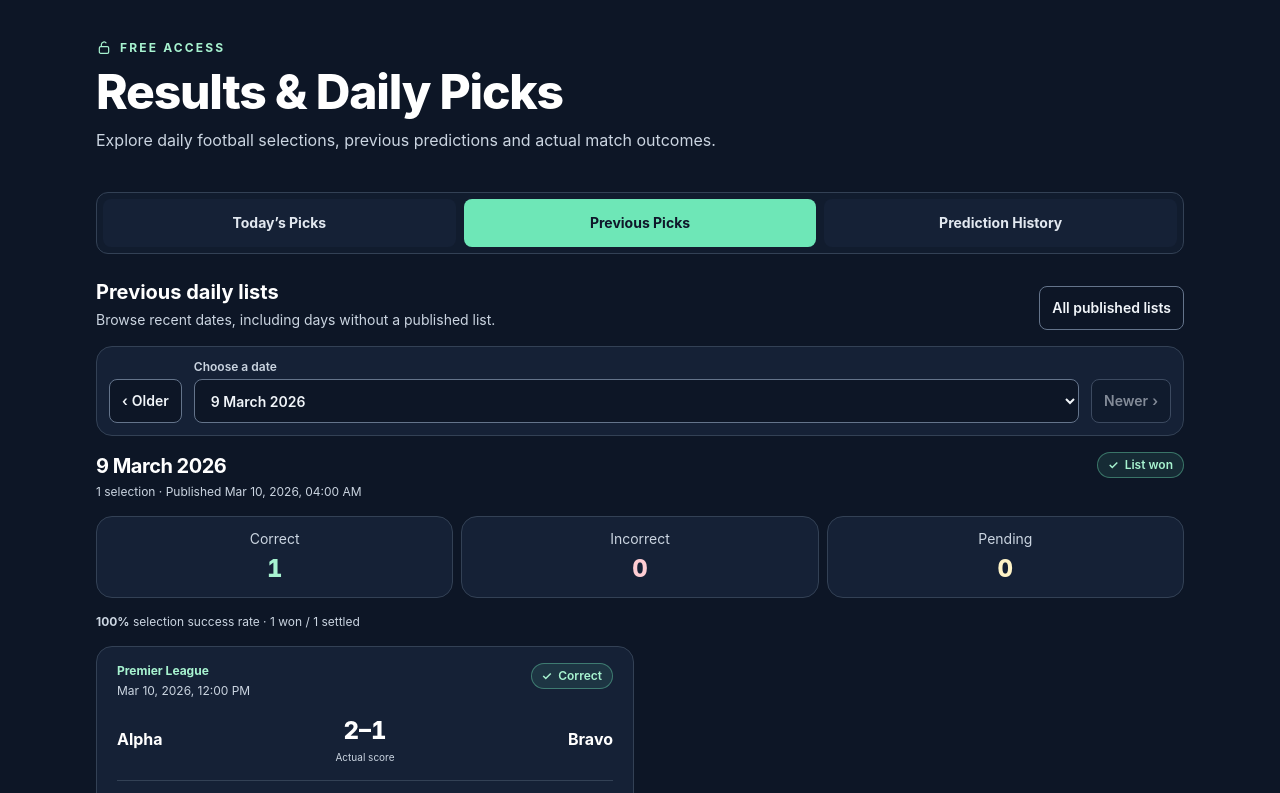
Test: public history screen › filters recent dates and pages through the published archive
Expected: the heading "Alpha 2–1 Actual score Bravo" is shown, [117,715,613,764]
Select "8 March 2026" in the dropdown labelled "Choose a date" at (636, 401), box [194,379,1079,423]
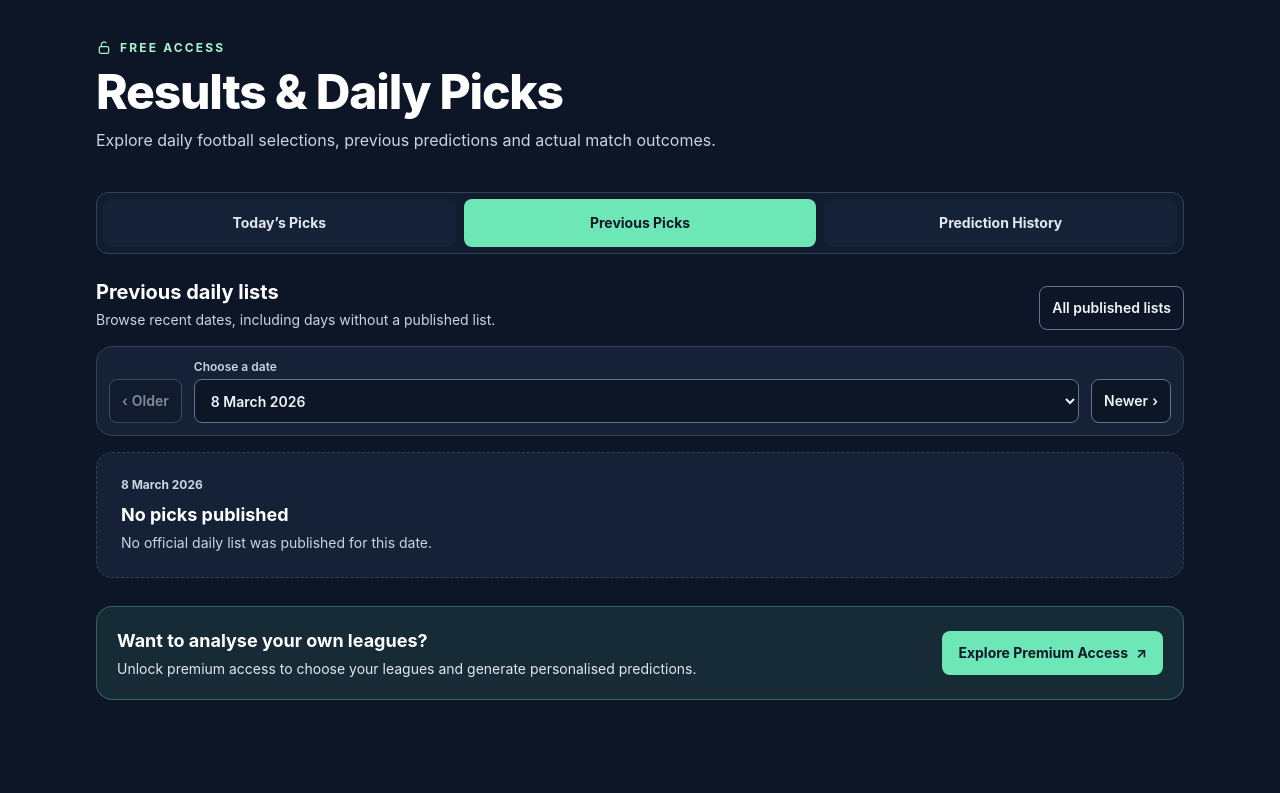
Expected: the heading "No picks published" is shown, [121,504,289,525]
Expected: the heading "Alpha 2–1 Actual score Bravo" is gone
Click the link with aria-label "Next date" at (1131, 401), box [1091,379,1171,423]
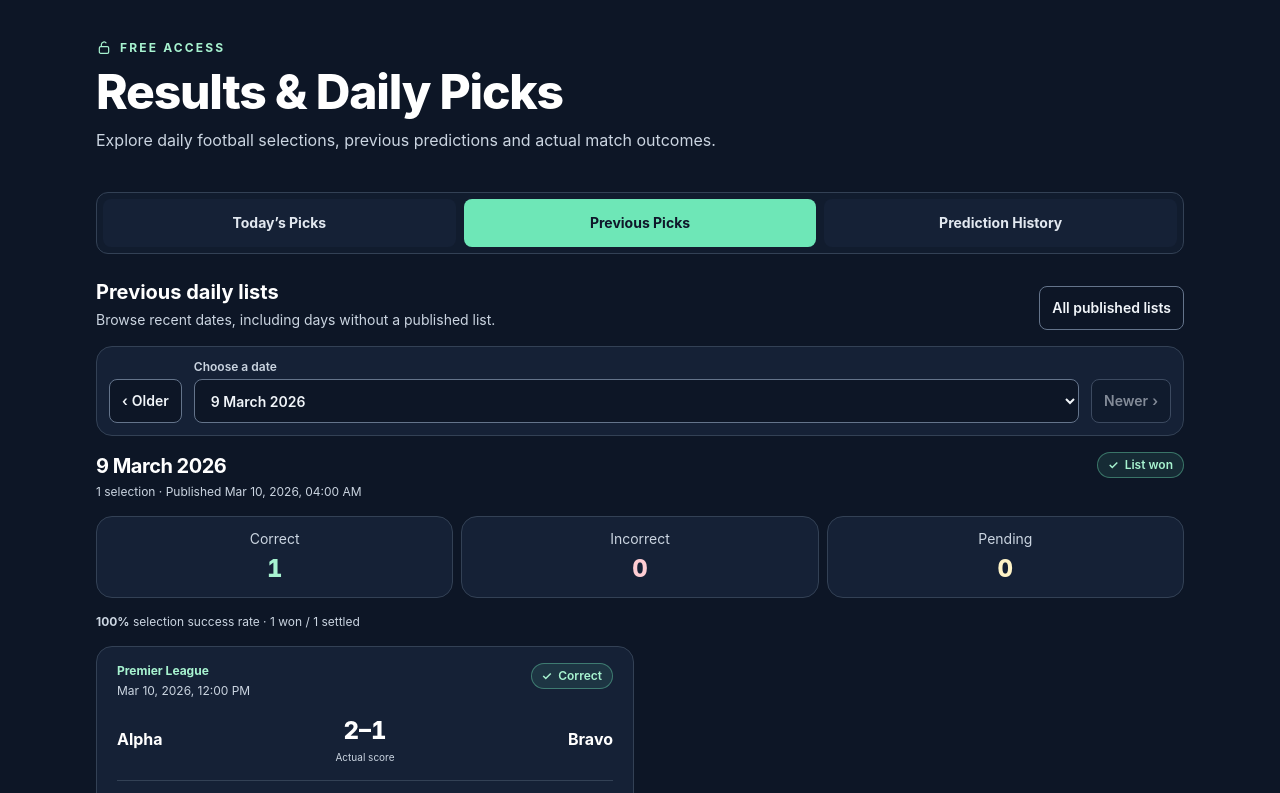
Expected: the heading "Alpha 2–1 Actual score Bravo" is shown, [117,715,613,764]
Click the link "All published lists" at (1112, 308), box [1039,286,1184,330]
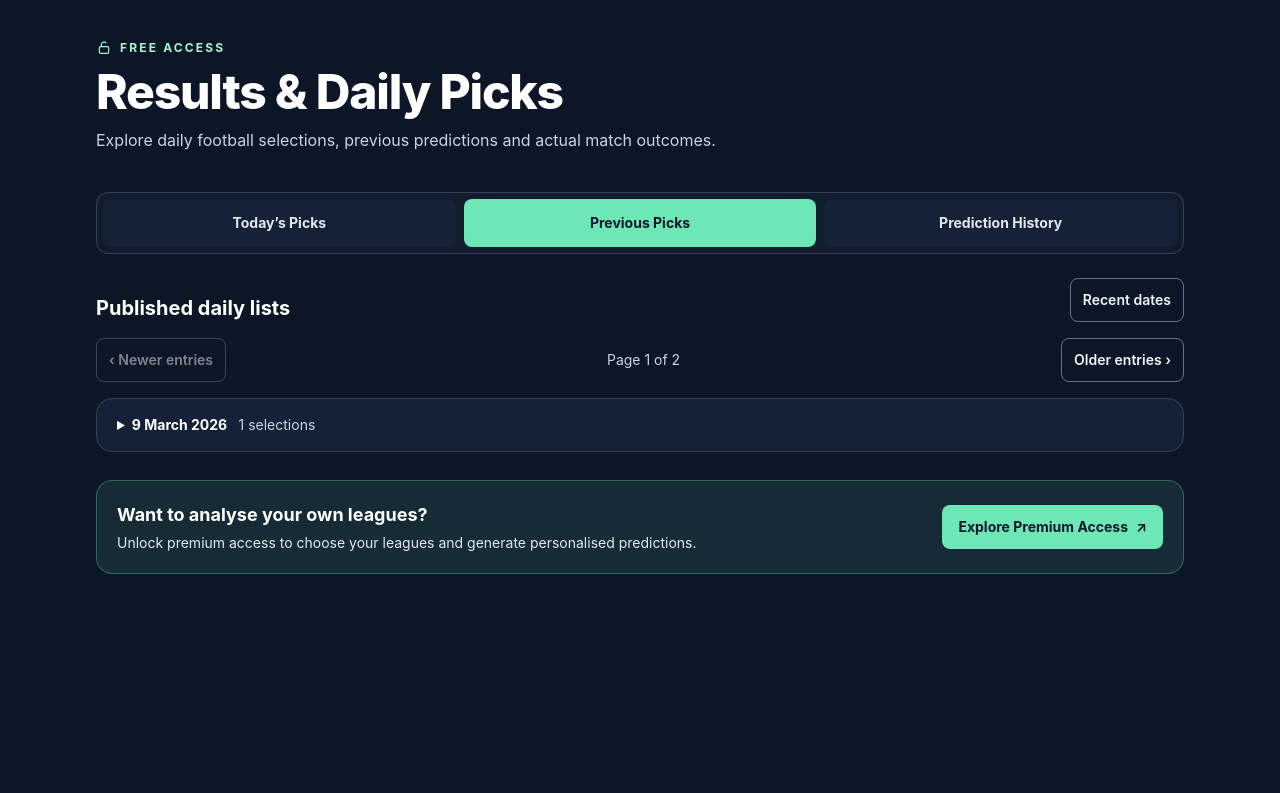
Click the link "Older entries ›" at (1123, 360), box [1061,338,1184,382]
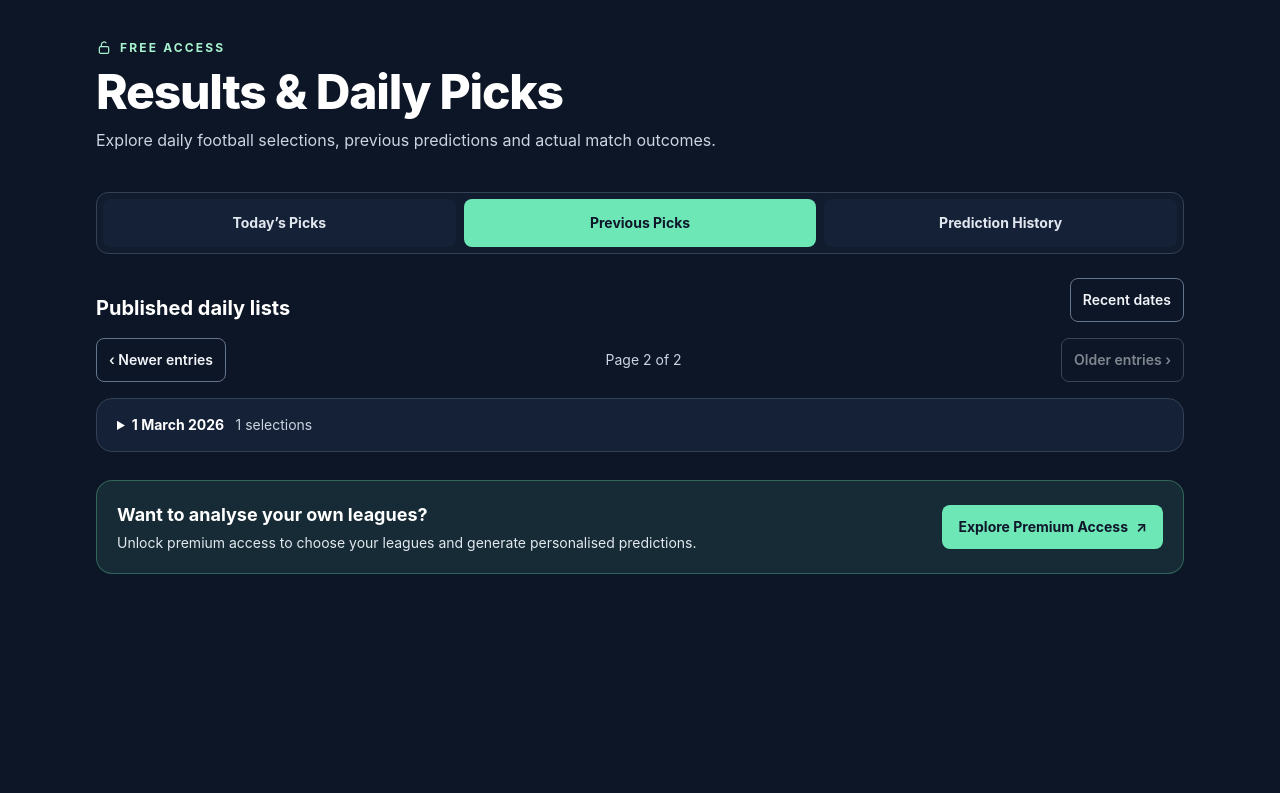
Expected: the heading "1 March 2026 1 selections" is shown, [132,416,312,433]
